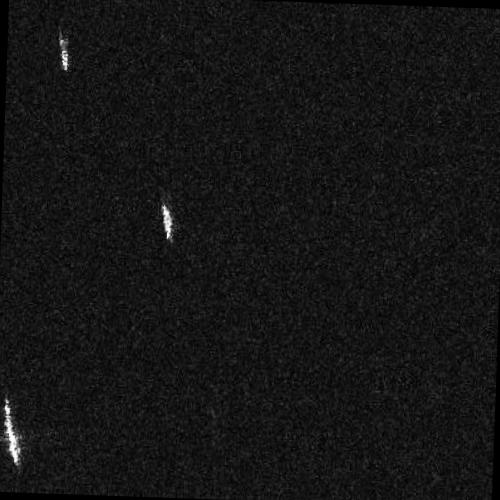ship: (1, 396, 23, 470), (159, 200, 174, 242), (57, 30, 70, 73)
